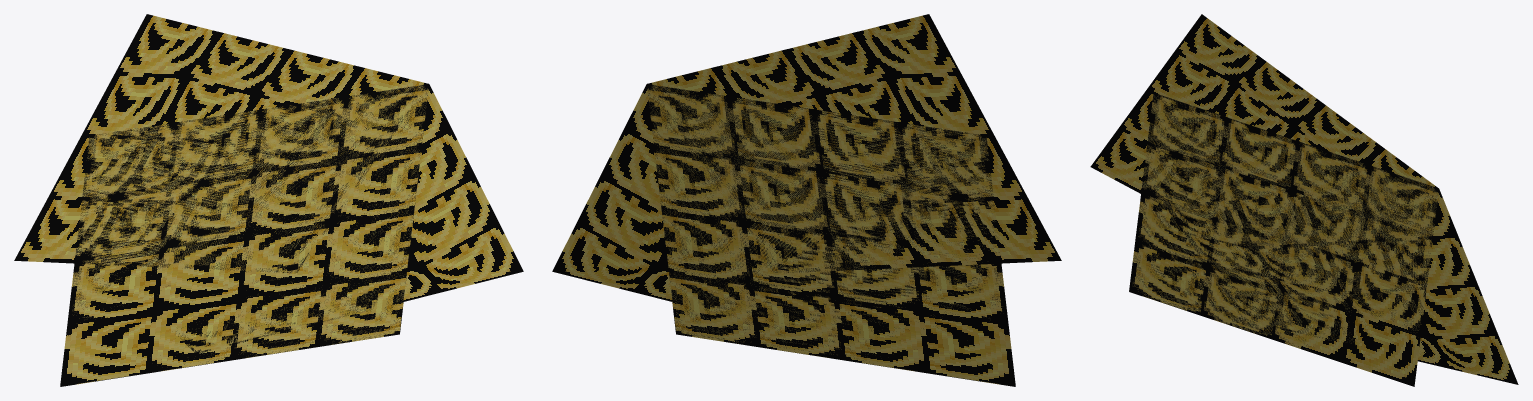
3 renders of one model, left to right at view 1: azimuth 30°, elevation 25°; view 2: azimuth 150°, elevation 25°; view 3: azimuth 330°, elevation 25°, orthographic. The views are drawn at different scales.
Visible parts, largest first — view 1: ef_646; view 2: ef_646; view 3: ef_646.
Boxes of the visible parts, box(x1,y1,x2,y2) form: ef_646: box(14, 14, 523, 386); ef_646: box(552, 14, 1061, 386); ef_646: box(1090, 14, 1518, 386).
Size of the model in its own units: 0.2842 by 0.2036 by 0.
Materials: 1 (1 with a texture image).
